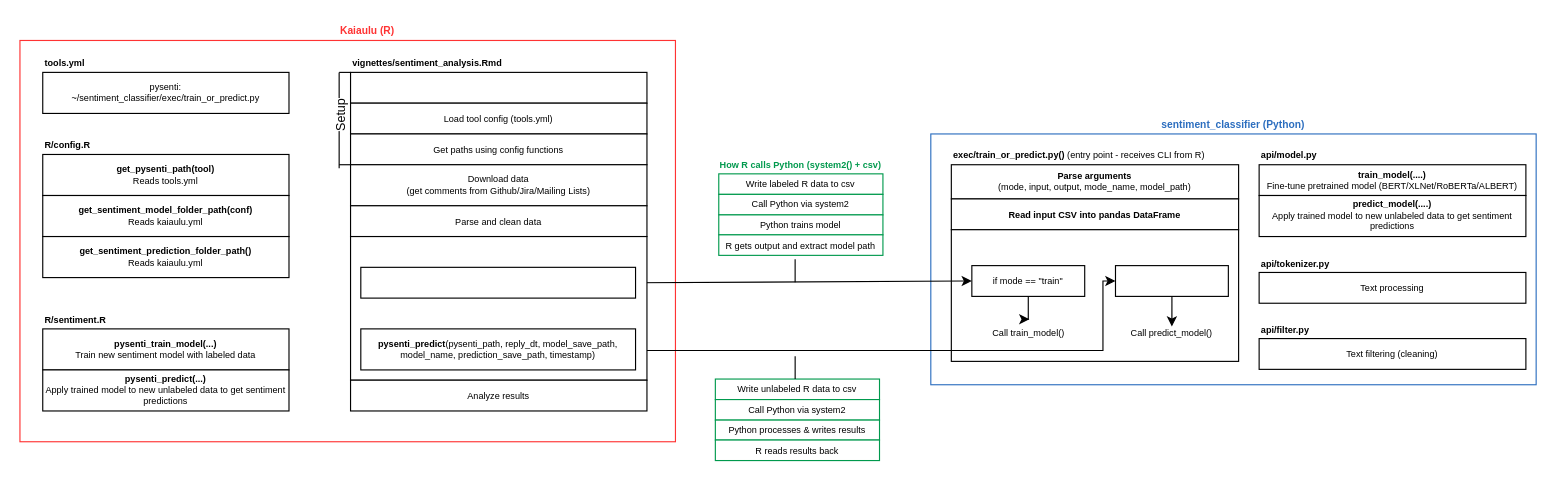
This 1556x480 diagram has some shape labels left out. The shapes that lost their labels are listed below. From the top down, each one's box as (x1, y1, x2, y2) in pixels, then its label:
(349, 71, 647, 103): Load project config (conf/kaiaulu.yml)
(360, 266, 636, 298): pysenti_train_model (pysenti_path, reply_dt, model_save_path, model_name)
(950, 229, 1239, 361): Route to appropriate function
(1114, 264, 1228, 296): if mode == "predict"
(349, 235, 647, 380): Call R wrapper functions OR
